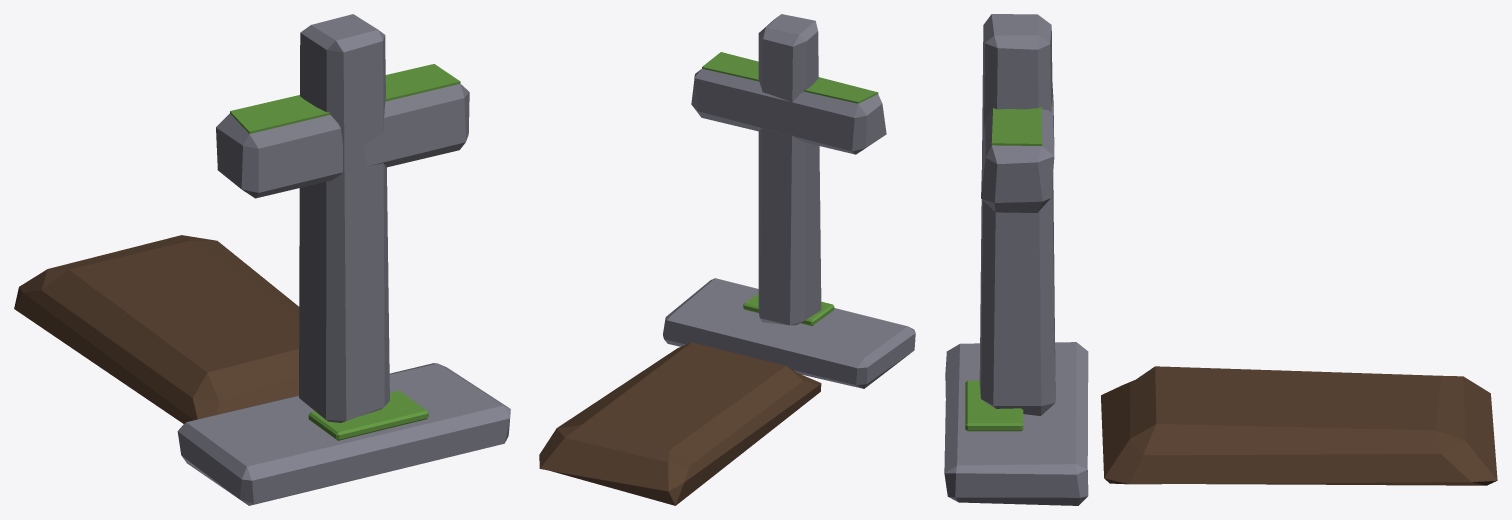
File: Gravestone2.fbx
3 views of the same model, side by side, from view 1: azimuth 30°, elevation 25°; view 2: azimuth 150°, elevation 25°; view 3: azimuth 270°, elevation 25° (orthographic). The views are drawn at different scales.
Visible parts, largest first — view 1: Stone, Mound, Moss; view 2: Stone, Mound, Moss; view 3: Mound, Stone, Moss.
Boxes of the visible parts, x1,y1,x2,y2 form: Stone: [177, 14, 510, 505]; Mound: [14, 235, 299, 423]; Moss: [230, 64, 460, 440]; Stone: [663, 14, 915, 388]; Mound: [539, 342, 821, 505]; Moss: [702, 52, 878, 325]; Mound: [1101, 366, 1497, 485]; Stone: [944, 14, 1088, 505]; Moss: [965, 107, 1041, 431].
Bounding box in the file's own units: 2.62 × 4.05 × 4.75.
